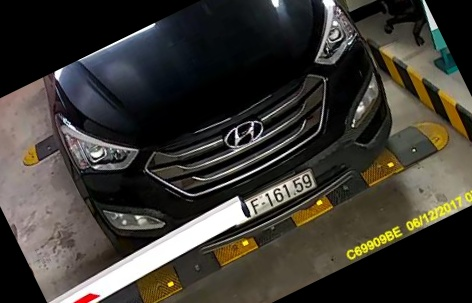plate: (232, 164, 317, 234)
